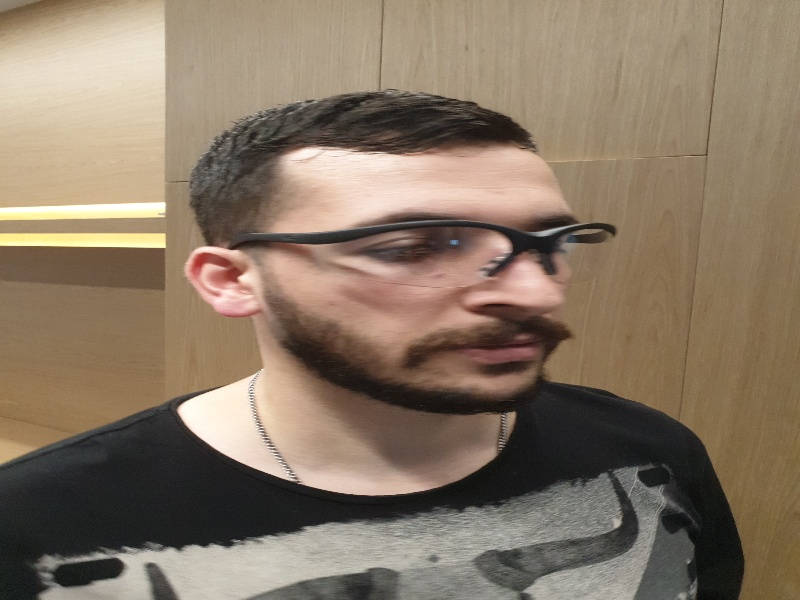Gozluk: (214, 220, 619, 286)
